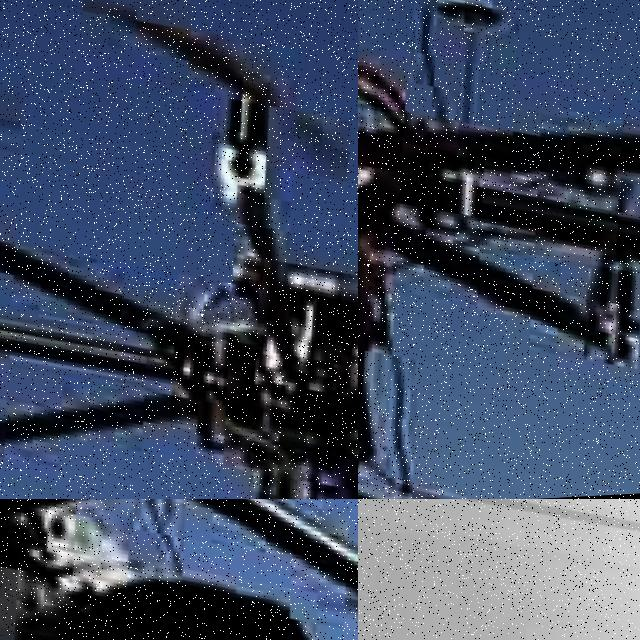drone: (0, 0, 358, 499), (358, 0, 640, 499), (0, 499, 358, 640), (358, 499, 640, 640)
